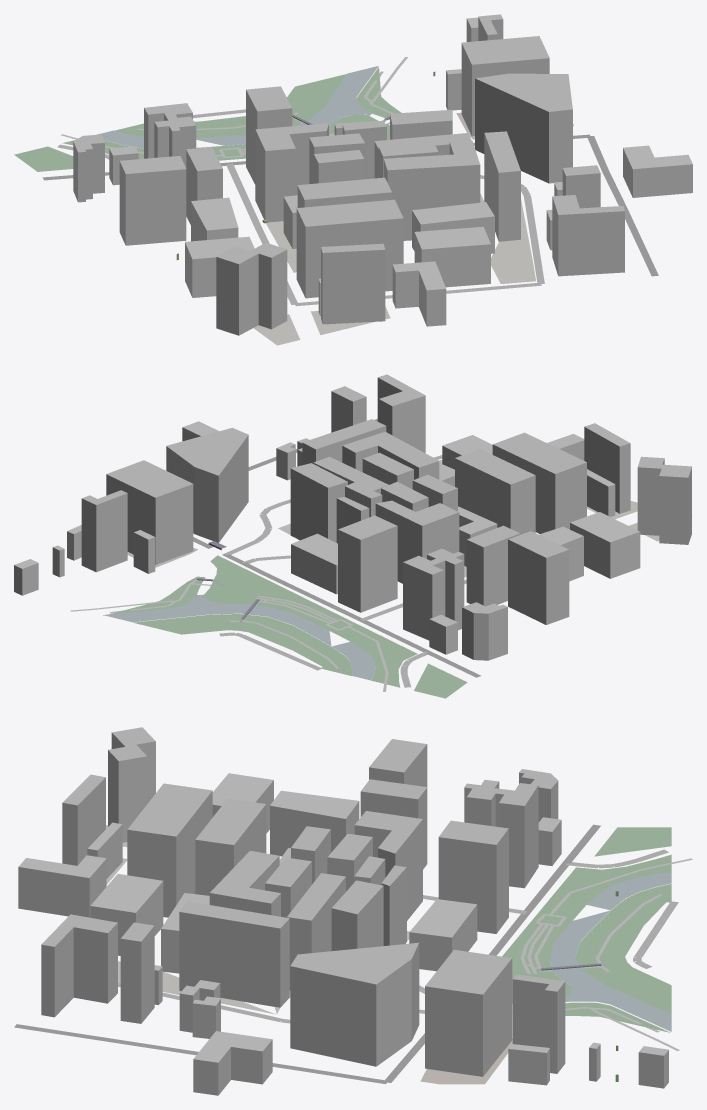
3 renders of one model, top to bottom at view 1: azimuth 30°, elevation 25°; view 2: azimuth 150°, elevation 25°; view 3: azimuth 270°, elevation 25°, orthographic. The views are drawn at different scales.
Bounding box in the file's own units: 554 × 83.09 × 561.
